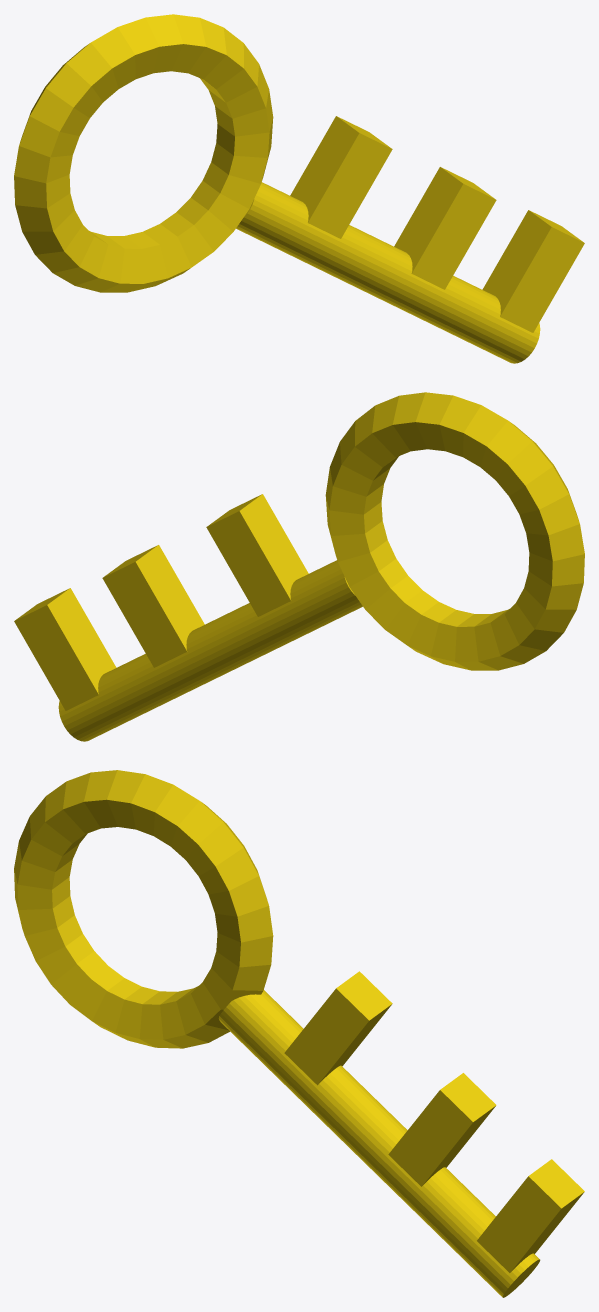
Rendered from key.fbx.
The picture shows the model from 3 angles, top to bottom: view 1: azimuth 30°, elevation 25°; view 2: azimuth 150°, elevation 25°; view 3: azimuth 330°, elevation 25°; orthographic projection.
Visible parts, largest first — view 1: Cube; view 2: Cube; view 3: Cube.
Part boxes in pixels (x1,y1,x2,y2): Cube: (14,14,584,363); Cube: (14,392,584,741); Cube: (14,770,584,1297).
Size of the model in its own units: 720 by 532 by 63.57.
